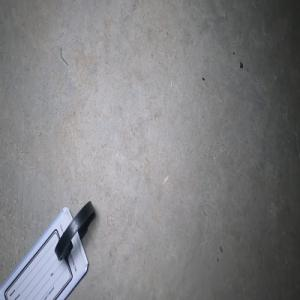LuggageTag: (0, 198, 95, 300)
